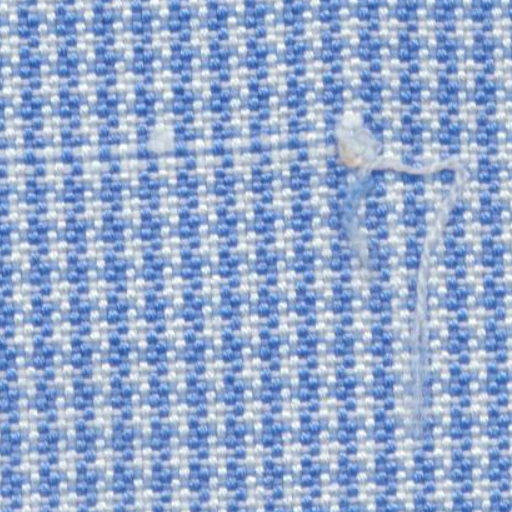DuanSha: (313, 104, 492, 454)
